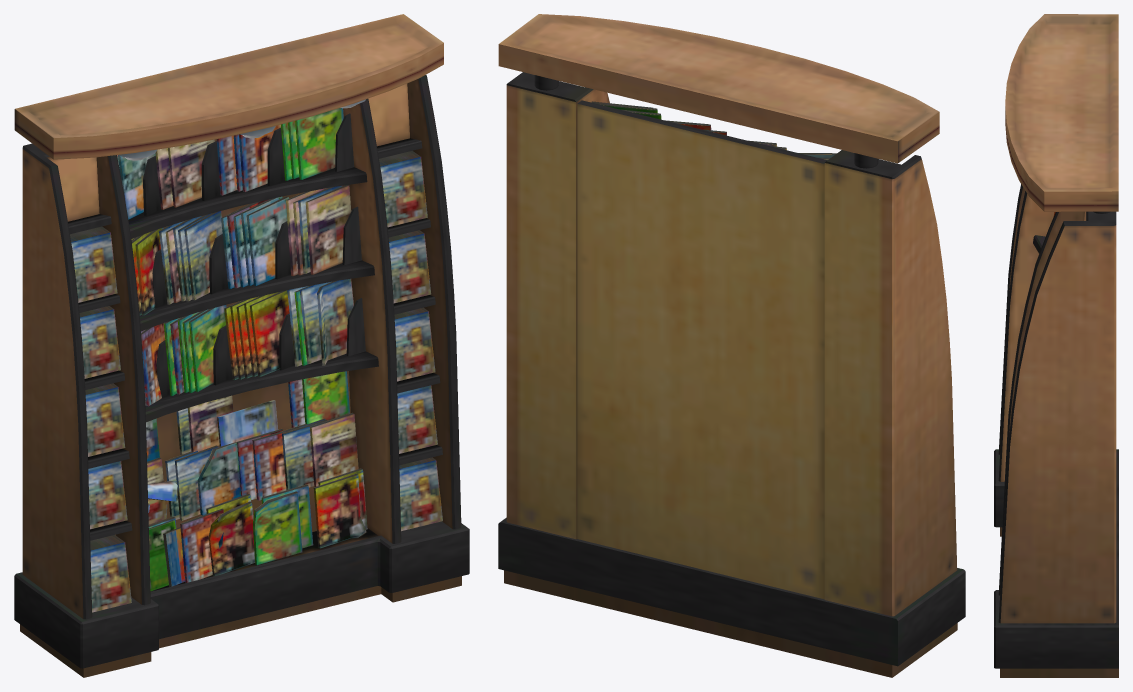
File: magazinerack_tslocator_gmdc.obj
The picture shows the model from 3 angles, left to right: view 1: azimuth 30°, elevation 25°; view 2: azimuth 150°, elevation 25°; view 3: azimuth 270°, elevation 25°; orthographic projection. The views are drawn at different scales.
Visible parts, largest first — view 1: magazinerack_surfaces; view 2: magazinerack_surfaces; view 3: magazinerack_surfaces.
Boxes of the visible parts, x1,y1,x2,y2 form: magazinerack_surfaces: (14,14,469,677); magazinerack_surfaces: (498,14,965,677); magazinerack_surfaces: (994,14,1118,677).
Size of the model in its own units: 1.87 by 2.39 by 0.554.
Materials: 2 (1 with a texture image).
